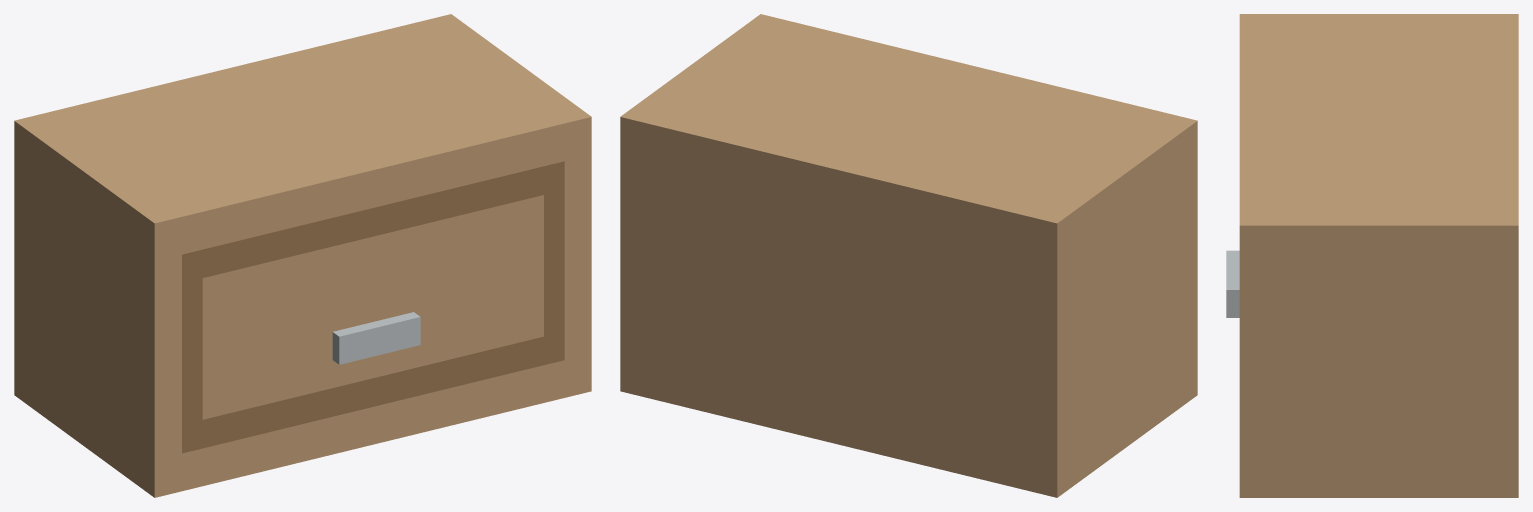
The model's file is kitchen-wall-low.glb.
3 renders of one model, left to right at view 1: azimuth 30°, elevation 25°; view 2: azimuth 150°, elevation 25°; view 3: azimuth 270°, elevation 25°, orthographic.
Parts seen in each view (by area): view 1: kitchen-wall-low; view 2: kitchen-wall-low; view 3: kitchen-wall-low.
Part boxes in pixels (x1,y1,x2,y2): kitchen-wall-low: [14, 14, 591, 497]; kitchen-wall-low: [620, 14, 1197, 497]; kitchen-wall-low: [1226, 14, 1518, 497].
Bounding box in the file's own units: 0.6 × 0.36 × 0.35.
